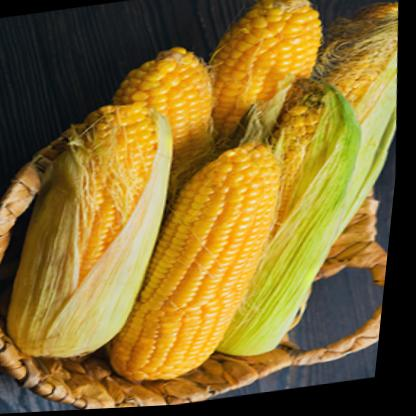---: (0, 41, 251, 372), (98, 132, 318, 391), (196, 0, 334, 157)
